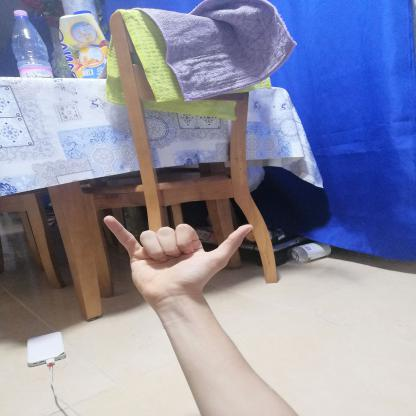YA: (89, 204, 268, 314)
